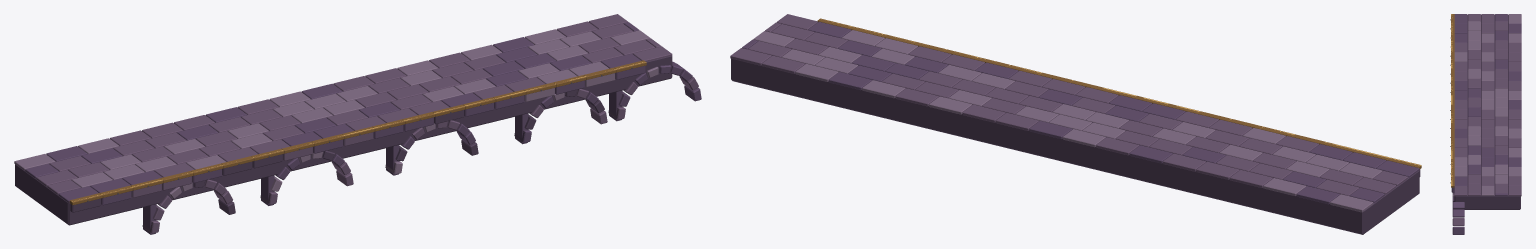
Rendered from SM_RGB_GalleryFloor.fbx.
The picture shows the model from 3 angles, left to right: view 1: azimuth 30°, elevation 25°; view 2: azimuth 150°, elevation 25°; view 3: azimuth 270°, elevation 25°; orthographic projection. The views are drawn at different scales.
Visible parts, largest first — view 1: SM_RGB_GalleryFloor; view 2: SM_RGB_GalleryFloor; view 3: SM_RGB_GalleryFloor.
Boxes of the visible parts, bbox=[...] form: SM_RGB_GalleryFloor: bbox=[14, 14, 701, 234]; SM_RGB_GalleryFloor: bbox=[730, 14, 1421, 234]; SM_RGB_GalleryFloor: bbox=[1450, 14, 1521, 234].
Size of the model in its own units: 1883 by 299 by 157.
